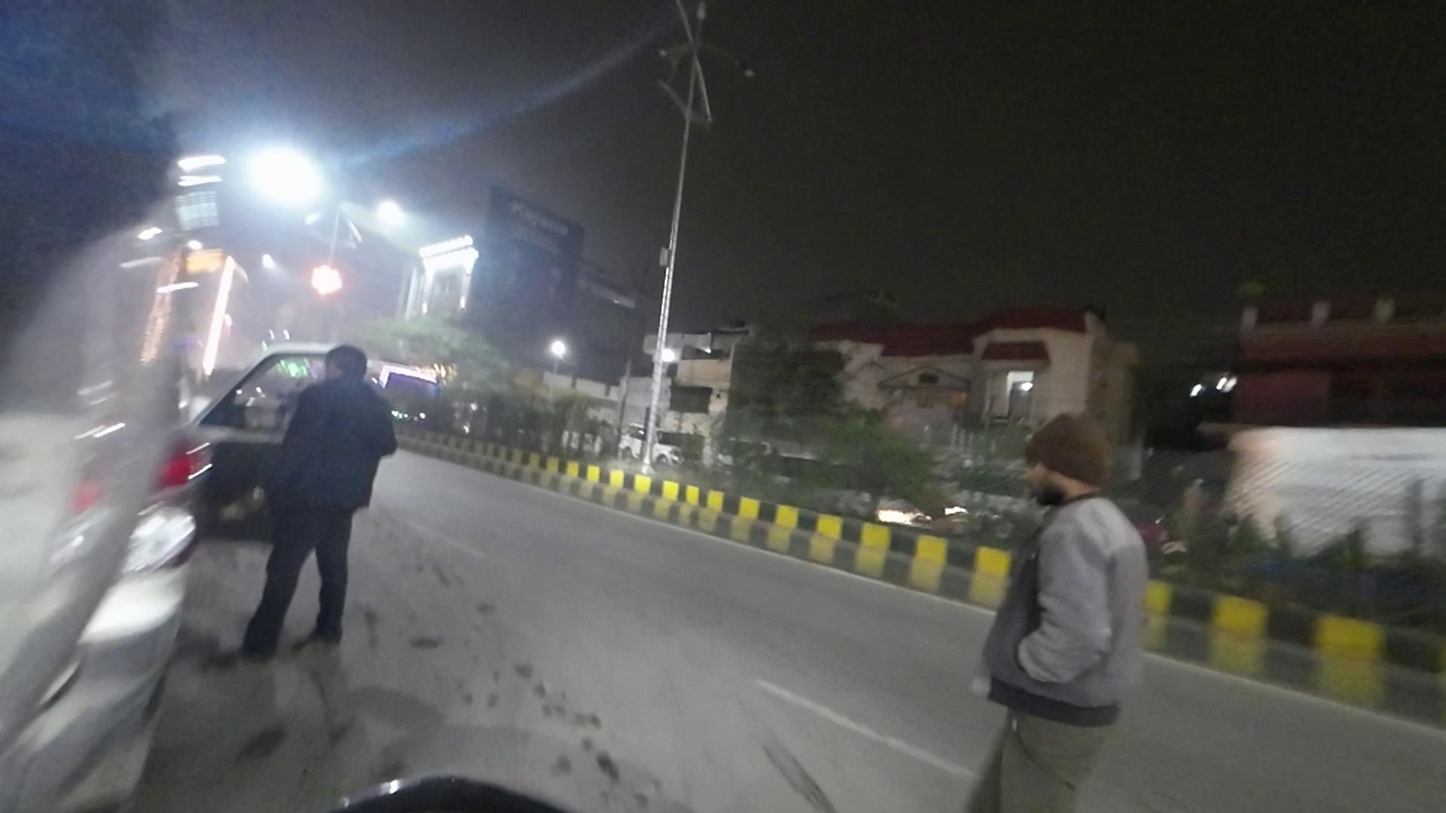streetlight: (723, 53, 759, 81)
